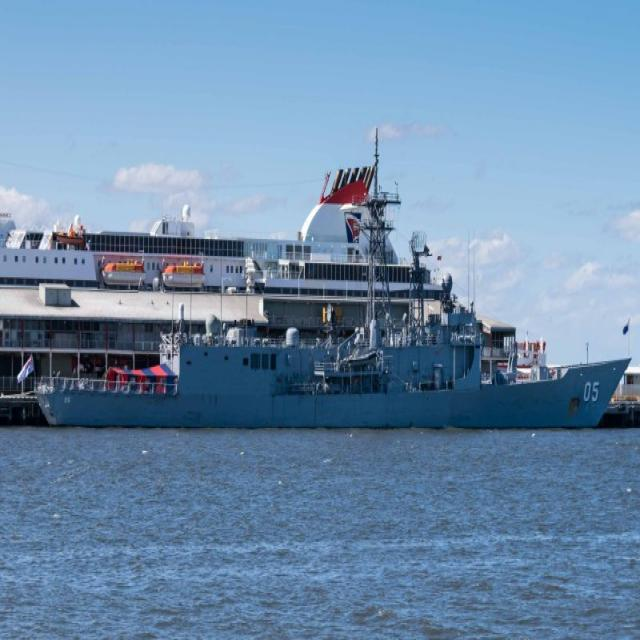Fragata: (32, 138, 633, 436)
